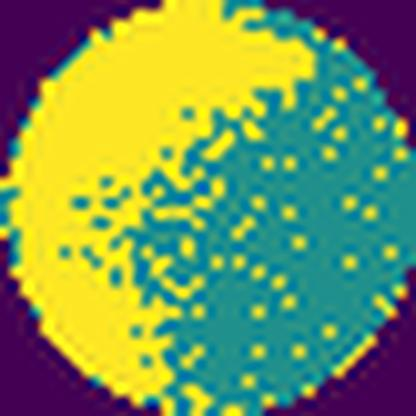Edge-Loc: (0, 0, 317, 408)
